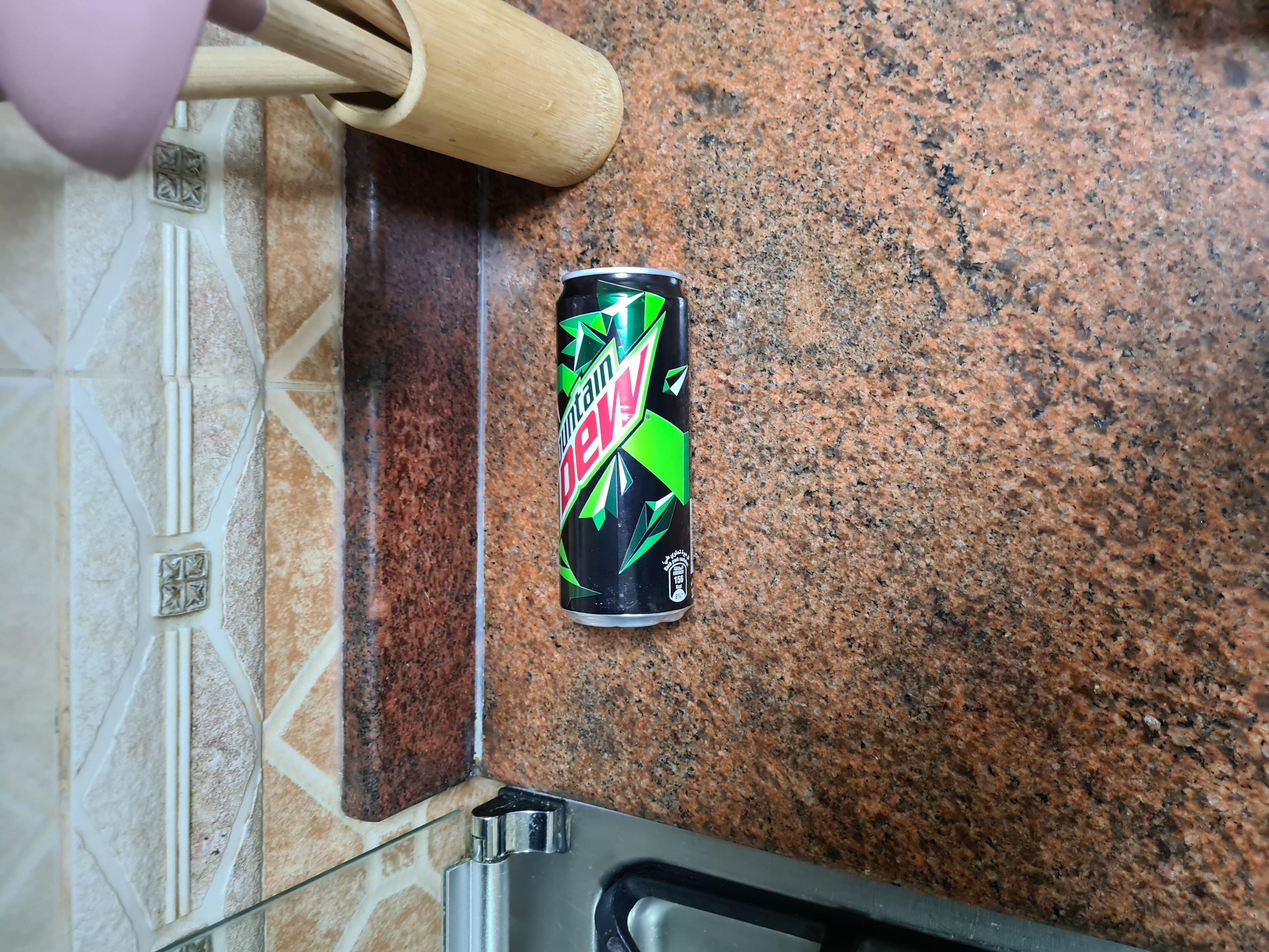debris: (534, 256, 707, 652)
